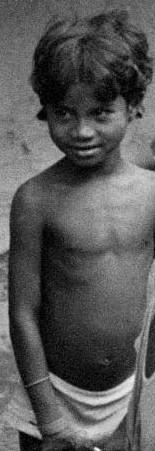Stunting: (38, 51, 155, 211)
